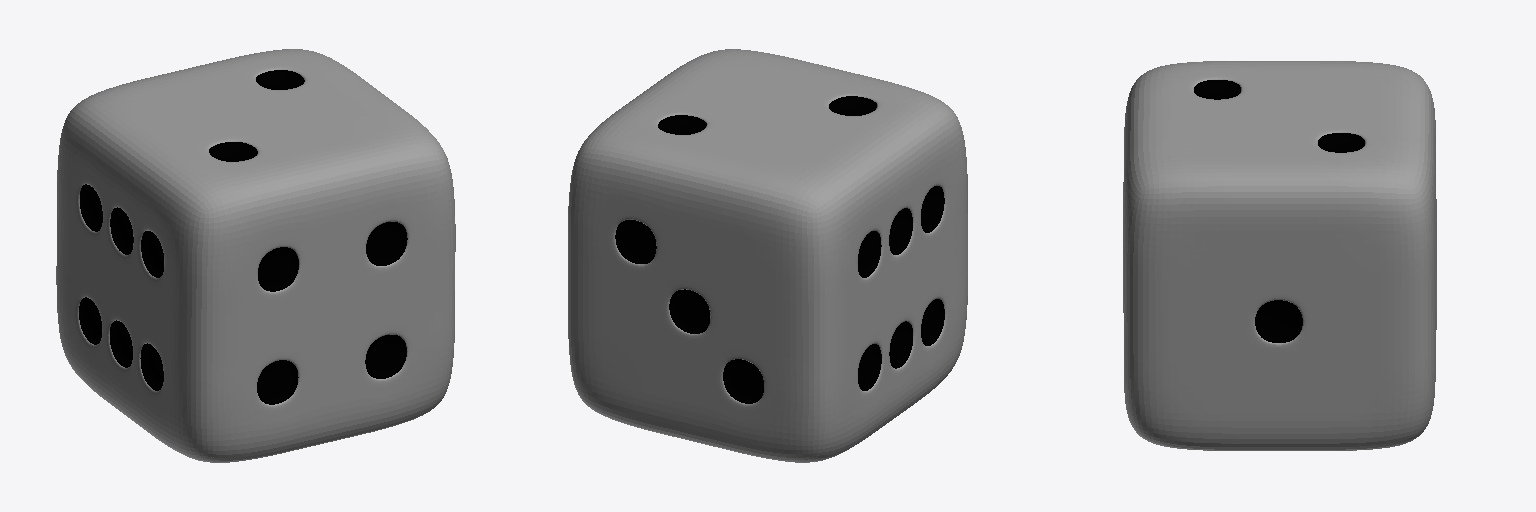
File: ThrowDice.obj
3 renders of one model, left to right at view 1: azimuth 30°, elevation 25°; view 2: azimuth 150°, elevation 25°; view 3: azimuth 270°, elevation 25°, orthographic.
Parts seen in each view (by area): view 1: Dice; view 2: Dice; view 3: Dice.
Boxes of the visible parts, <box> form: Dice: <box>56,49,455,462</box>; Dice: <box>568,49,967,462</box>; Dice: <box>1123,61,1436,450</box>.
Bounding box in the file's own units: 26.15 × 26.09 × 26.15.